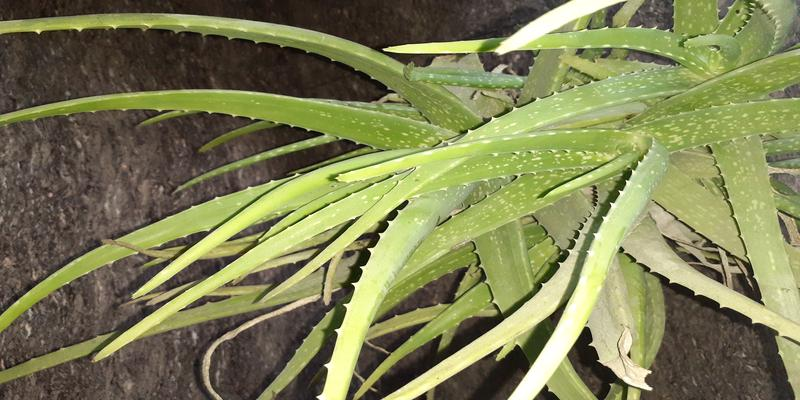Aloevera: (184, 54, 777, 358)
